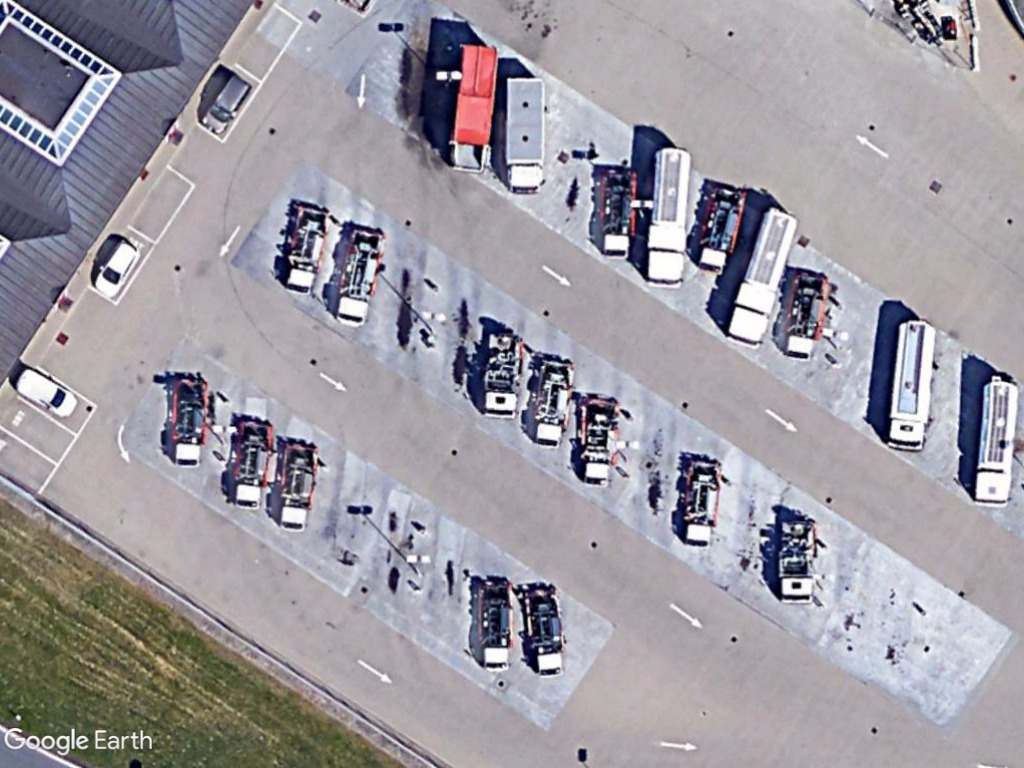car: (197, 73, 255, 138), (88, 233, 141, 303)
truck: (718, 207, 801, 352), (877, 315, 945, 455), (636, 141, 699, 292), (962, 369, 1022, 507), (499, 68, 553, 202)
van: (11, 359, 83, 422)
